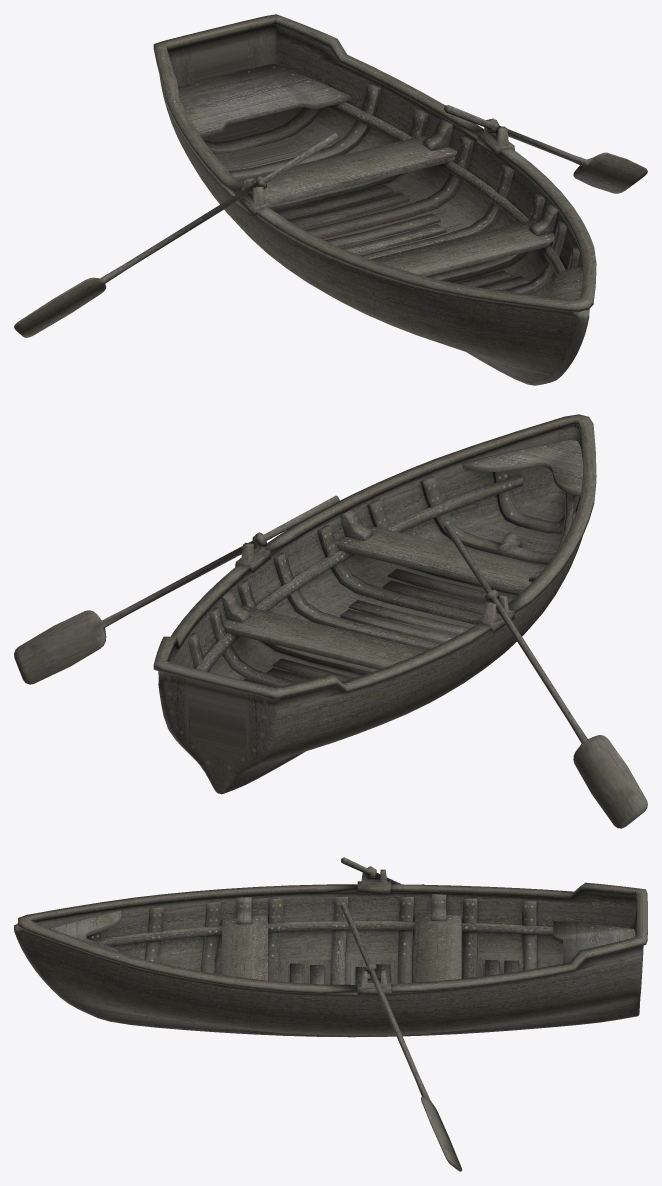
The model's file is rowboat_old.glb.
3 views of the same model, one above another, from view 1: azimuth 30°, elevation 25°; view 2: azimuth 150°, elevation 25°; view 3: azimuth 270°, elevation 25° (orthographic). The views are drawn at different scales.
Parts seen in each view (by area): view 1: Cube.003_low.001_Material_0, Cube.025_low.001_Material_0, Cube.019_low.001_Material_0, Cylinder_low.001_Material_0, Cube.027_low.001_Material_0, Cube.013_low.001_Material_0, Cube.014_low.001_Material_0, Cube.008_low.001_Material_0, Cube.009_low.001_Material_0, Cube.007_low.001_Material_0, Cube.030_low.001_Material_0, Cube.006_low.001_Material_0; view 2: Cube.003_low.001_Material_0, Cube.025_low.001_Material_0, Cylinder_low.001_Material_0, Cube.019_low.001_Material_0, Cube.027_low.001_Material_0, Cube.014_low.001_Material_0, Cube.004_low.001_Material_0, Cube.030_low.001_Material_0, Cube.005_low.001_Material_0, Cube.001_low.001_Material_0, Cube.002_low.001_Material_0, Cube.008_low.001_Material_0; view 3: Cube.003_low.001_Material_0, Cube.025_low.001_Material_0, Cube.019_low.001_Material_0, Cube.027_low.001_Material_0, Cylinder_low.001_Material_0, Cube.014_low.001_Material_0, Cube.030_low.001_Material_0.
Part boxes in pixels (x1,y1,x2,y2): Cube.003_low.001_Material_0: [153, 14, 596, 385]; Cube.025_low.001_Material_0: [178, 64, 582, 299]; Cube.019_low.001_Material_0: [229, 82, 579, 294]; Cylinder_low.001_Material_0: [14, 105, 647, 337]; Cube.027_low.001_Material_0: [329, 102, 565, 275]; Cube.013_low.001_Material_0: [203, 107, 322, 153]; Cube.014_low.001_Material_0: [426, 192, 545, 282]; Cube.008_low.001_Material_0: [288, 192, 408, 228]; Cube.009_low.001_Material_0: [276, 185, 393, 219]; Cube.007_low.001_Material_0: [325, 213, 440, 247]; Cube.030_low.001_Material_0: [422, 118, 558, 236]; Cube.006_low.001_Material_0: [341, 223, 445, 254]; Cube.003_low.001_Material_0: [153, 414, 596, 794]; Cube.025_low.001_Material_0: [223, 439, 582, 669]; Cylinder_low.001_Material_0: [14, 495, 647, 828]; Cube.019_low.001_Material_0: [188, 470, 579, 687]; Cube.027_low.001_Material_0: [196, 474, 573, 671]; Cube.014_low.001_Material_0: [317, 525, 483, 624]; Cube.004_low.001_Material_0: [349, 600, 470, 635]; Cube.030_low.001_Material_0: [221, 509, 545, 622]; Cube.005_low.001_Material_0: [340, 609, 456, 643]; Cube.001_low.001_Material_0: [388, 568, 514, 602]; Cube.002_low.001_Material_0: [383, 580, 484, 613]; Cube.008_low.001_Material_0: [273, 658, 354, 681]; Cube.003_low.001_Material_0: [14, 869, 647, 1037]; Cube.025_low.001_Material_0: [51, 910, 635, 982]; Cube.019_low.001_Material_0: [87, 896, 536, 984]; Cube.027_low.001_Material_0: [92, 921, 553, 946]; Cylinder_low.001_Material_0: [341, 857, 461, 1171]; Cube.014_low.001_Material_0: [268, 898, 283, 981]; Cube.030_low.001_Material_0: [237, 894, 446, 924].
Size of the model in its own units: 659 by 196 by 672.
Materials: 1 (1 with a texture image).
